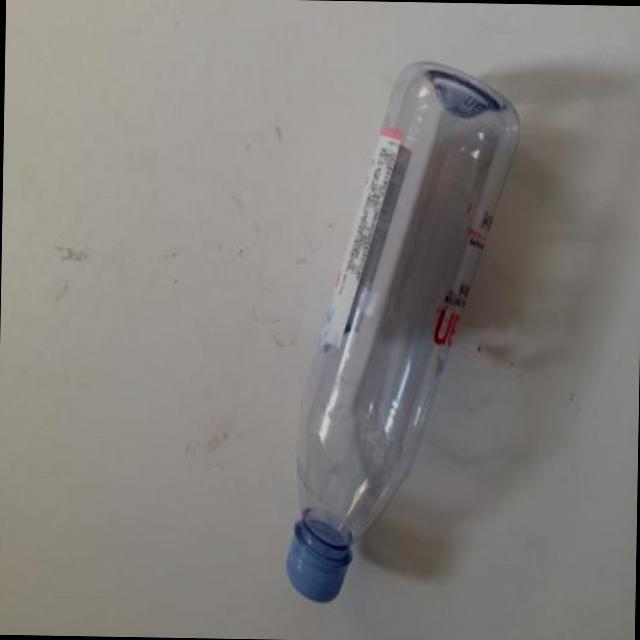Recycle: (286, 60, 524, 609)
